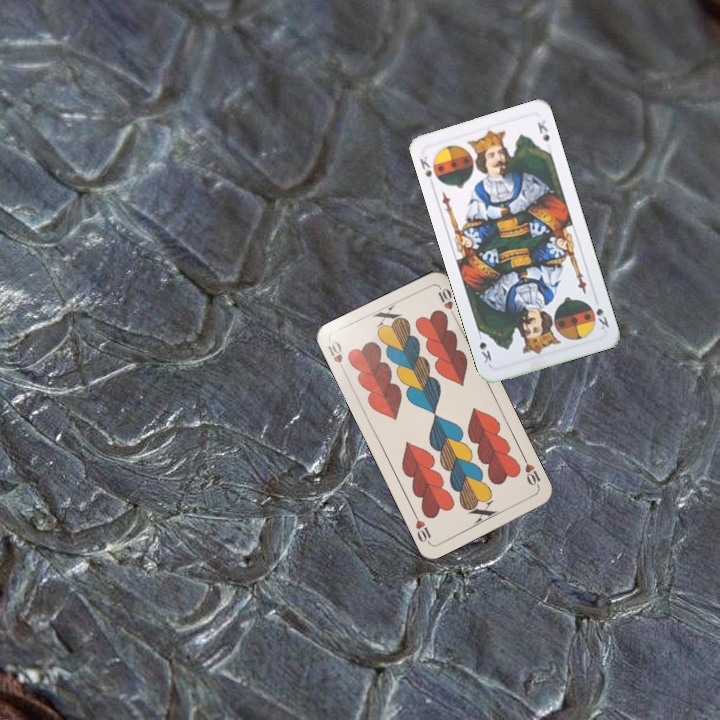H10: (323, 336, 349, 376), (519, 453, 543, 491)
SK: (592, 304, 612, 332), (415, 152, 434, 181)
